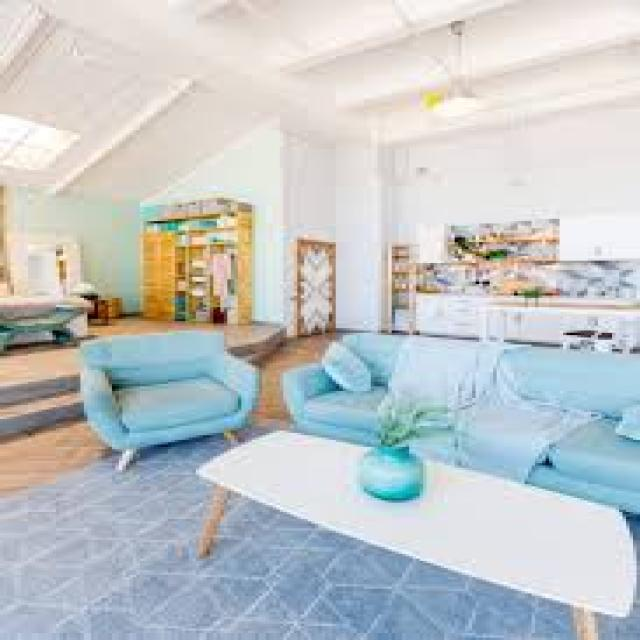Chair: (68, 315, 256, 469)
Sofa: (287, 329, 640, 478)
Table: (208, 429, 640, 631)
